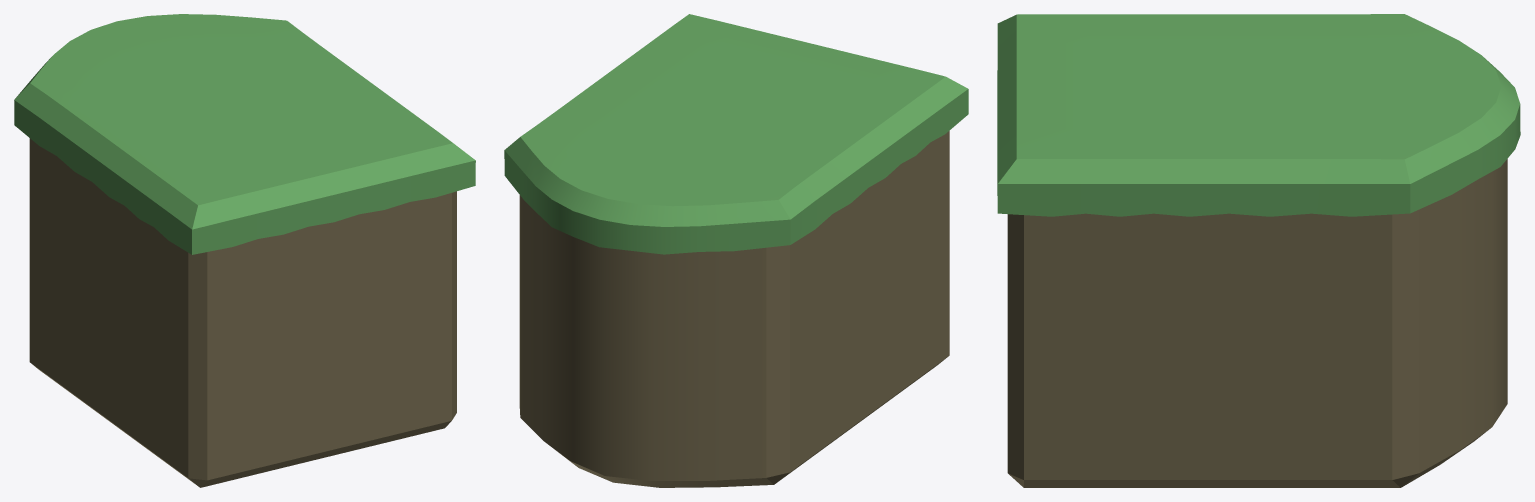
Rendered from Grass_block_edge.fbx.
3 views of the same model, side by side, from view 1: azimuth 30°, elevation 25°; view 2: azimuth 150°, elevation 25°; view 3: azimuth 270°, elevation 25° (orthographic). The views are drawn at different scales.
Parts seen in each view (by area): view 1: Dirt, Grass; view 2: Dirt, Grass; view 3: Dirt, Grass.
Boxes of the visible parts, x1,y1,x2,y2 form: Dirt: (29,138,456,487); Grass: (14,14,475,254); Dirt: (519,131,949,487); Grass: (504,14,968,254); Dirt: (1007,159,1507,487); Grass: (997,14,1520,216).
Size of the model in its own units: 118 by 113 by 162.
